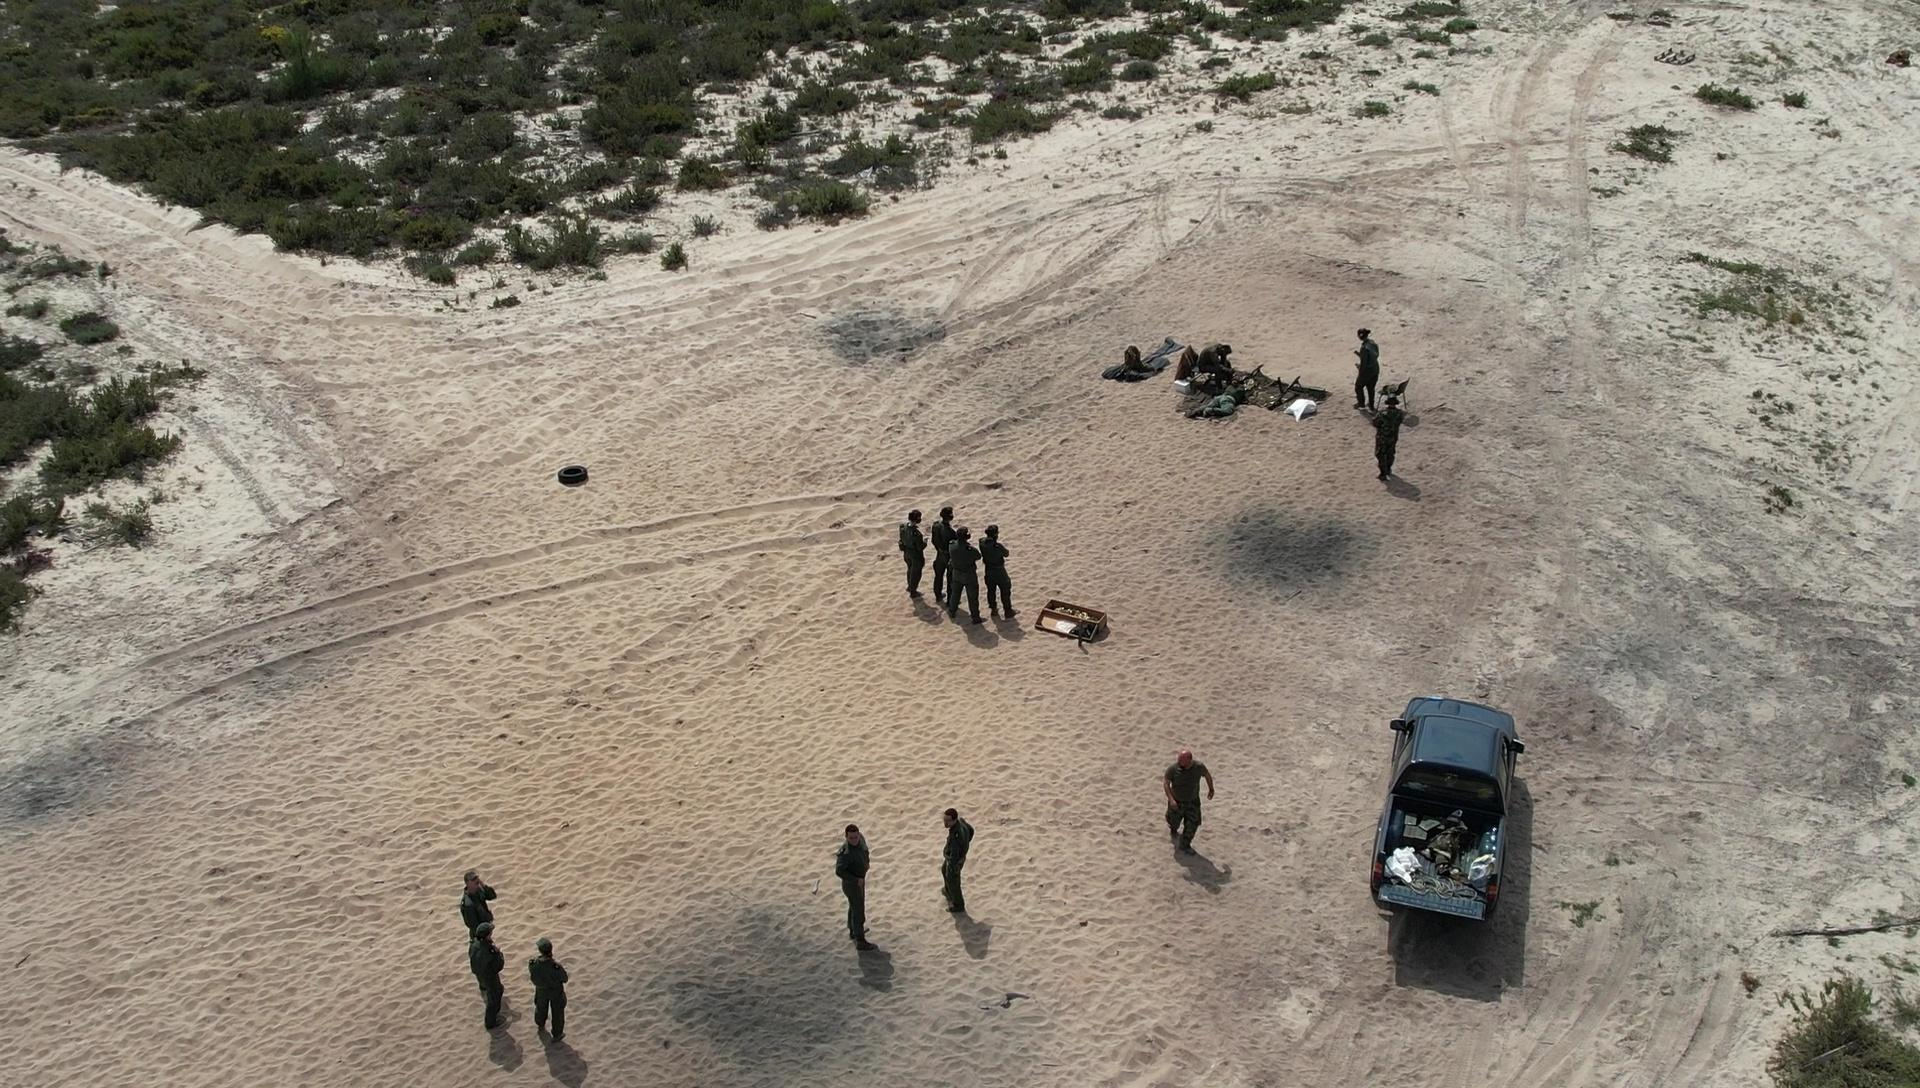Soldier: (823, 818, 891, 961), (926, 794, 989, 943), (1160, 741, 1229, 878), (971, 513, 1038, 632), (468, 928, 518, 1047), (952, 518, 1005, 628), (529, 930, 578, 1042), (891, 502, 934, 619), (1364, 393, 1406, 491), (1196, 378, 1269, 433), (1348, 320, 1390, 408), (932, 492, 963, 611), (1197, 335, 1254, 398), (456, 859, 508, 926)
